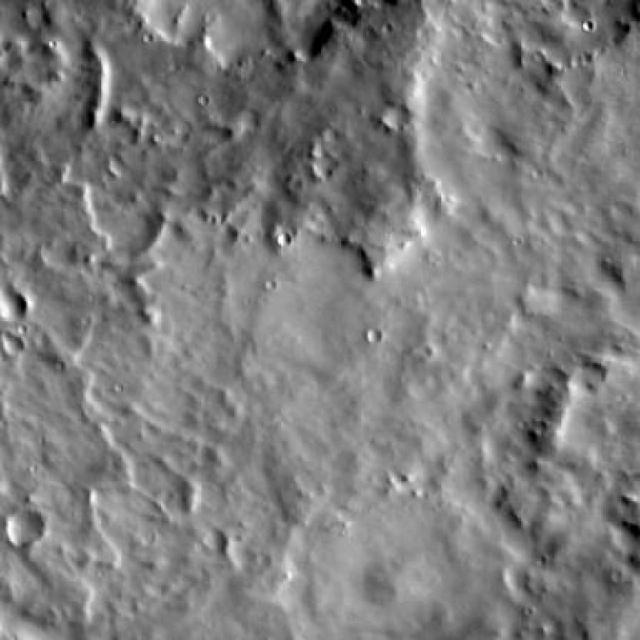crater: (269, 464, 510, 640), (1, 508, 42, 544), (0, 285, 31, 329), (383, 102, 408, 126), (207, 532, 228, 553)
